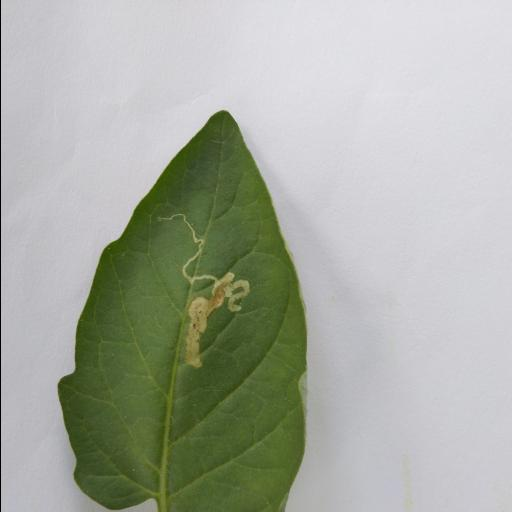Leaf Miner: (52, 110, 308, 512)
